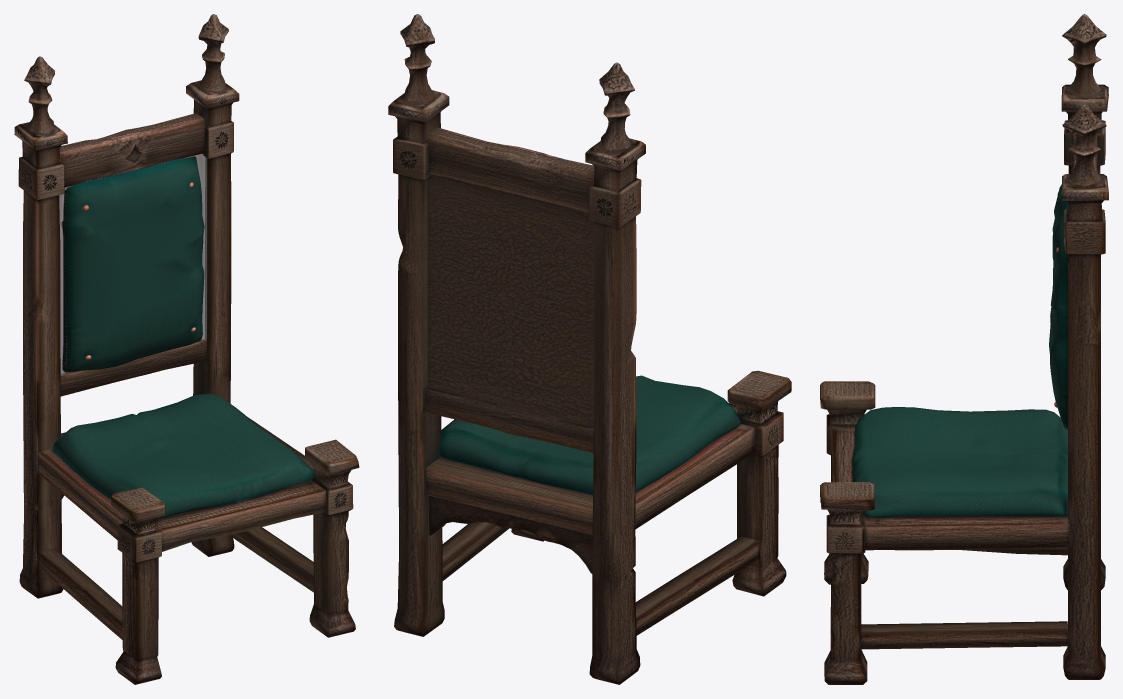
Rendered from sedia.fbx.
3 views of the same model, side by side, from view 1: azimuth 30°, elevation 25°; view 2: azimuth 150°, elevation 25°; view 3: azimuth 270°, elevation 25° (orthographic). The views are drawn at different scales.
Parts seen in each view (by area): view 1: tripo_node_469a6ba1; view 2: tripo_node_469a6ba1; view 3: tripo_node_469a6ba1.
Part boxes in pixels (left/top/right/bottom): tripo_node_469a6ba1: left=14, top=14, right=359, bottom=684; tripo_node_469a6ba1: left=388, top=14, right=791, bottom=684; tripo_node_469a6ba1: left=820, top=14, right=1108, bottom=684.
Size of the model in its own units: 0.4468 by 0.9995 by 0.4585.
Materials: 1 (1 with a texture image).
